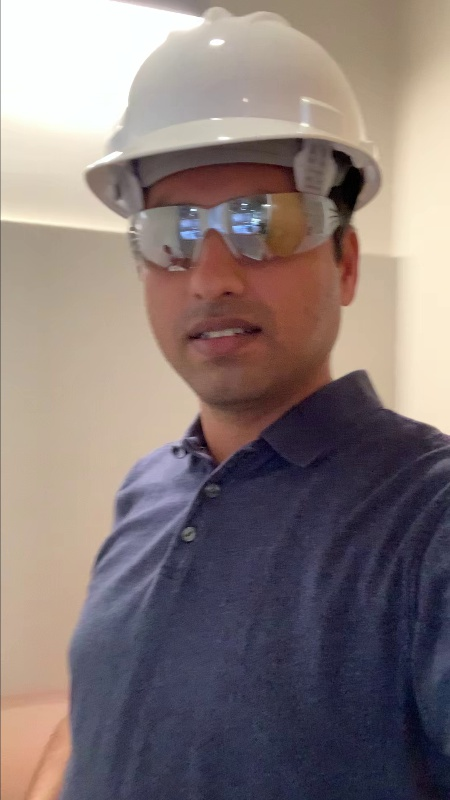glasses: (113, 182, 346, 276)
helmet: (83, 5, 390, 199)
